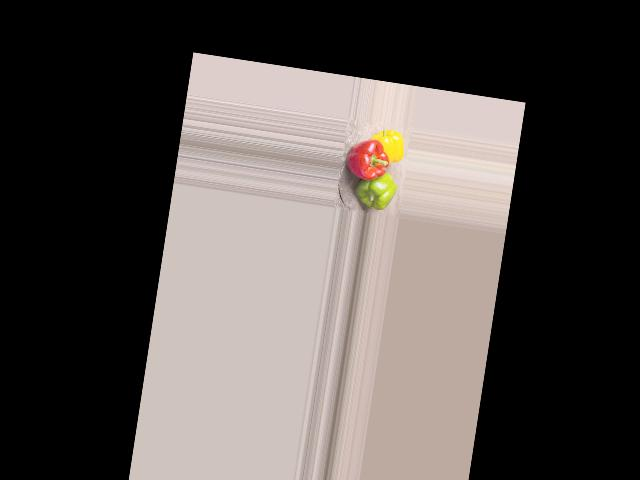bell_pepper: (367, 127, 408, 164)
